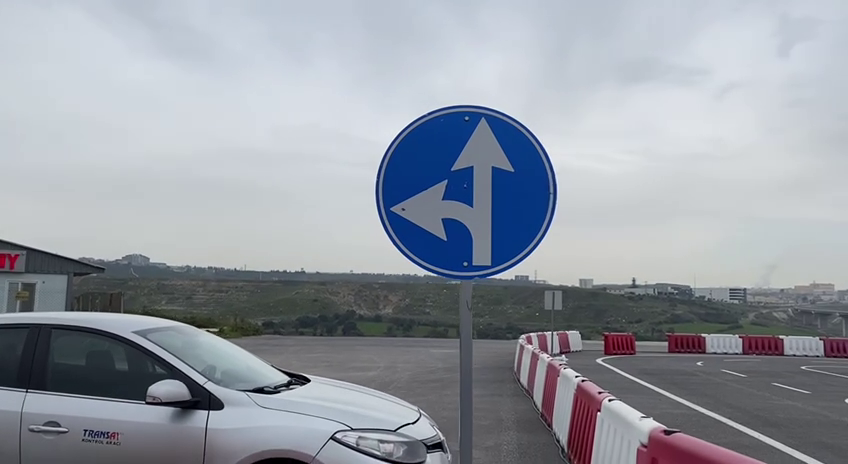forwardAndLeft: (370, 101, 559, 284)
